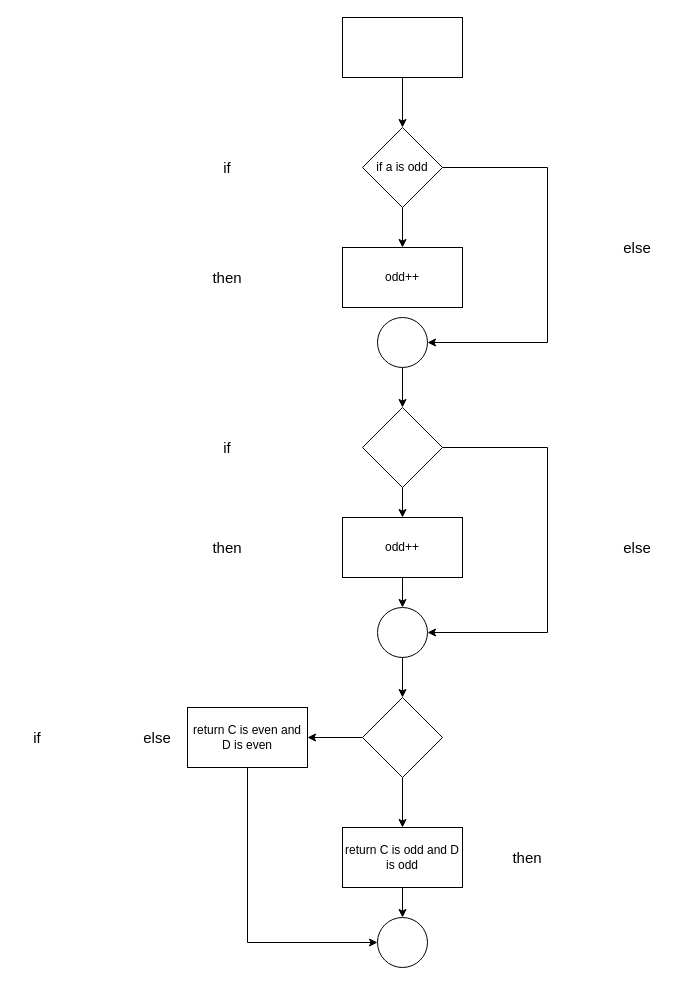
Image size: 674x985. Some labels were removed from this diagram. The centre of each missing label's shape, as x and y in pixels:
c = a + b d = a - b odd = 0: pixel 402 47
if b is odd: pixel 402 447
if odd == 1: pixel 402 737
